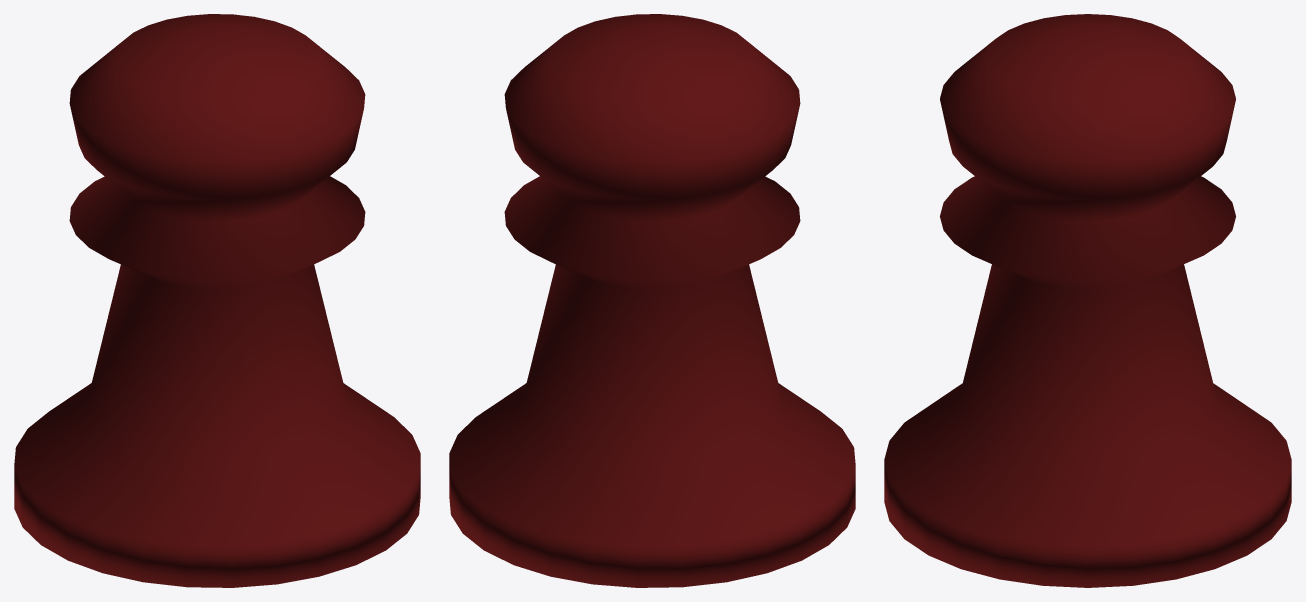
Rendered from b-pawn.glb.
3 views of the same model, side by side, from view 1: azimuth 30°, elevation 25°; view 2: azimuth 150°, elevation 25°; view 3: azimuth 270°, elevation 25° (orthographic).
Parts seen in each view (by area): view 1: b-pawn; view 2: b-pawn; view 3: b-pawn.
Part boxes in pixels (x1=…): b-pawn: x1=14, y1=14, x2=420, y2=587; b-pawn: x1=449, y1=14, x2=855, y2=587; b-pawn: x1=884, y1=14, x2=1291, y2=587.
Bounding box in the file's own units: 0.44 × 0.55 × 0.44.
